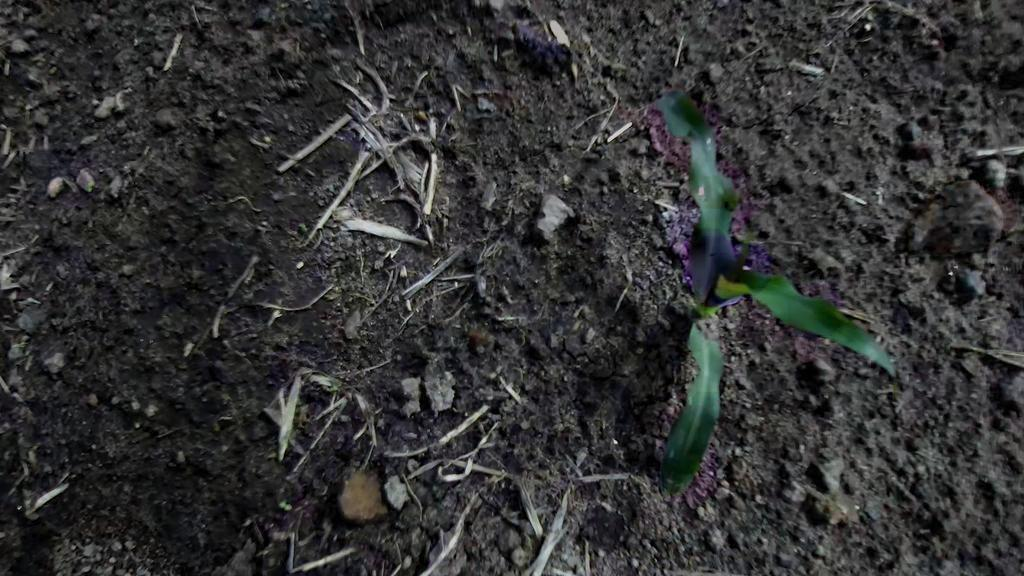BroWeed: (277, 498, 294, 514), (413, 108, 430, 124), (297, 221, 309, 235), (87, 183, 93, 194)
Maize: (496, 56, 900, 501)
